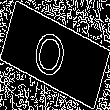O_S: (34, 23, 76, 87)
